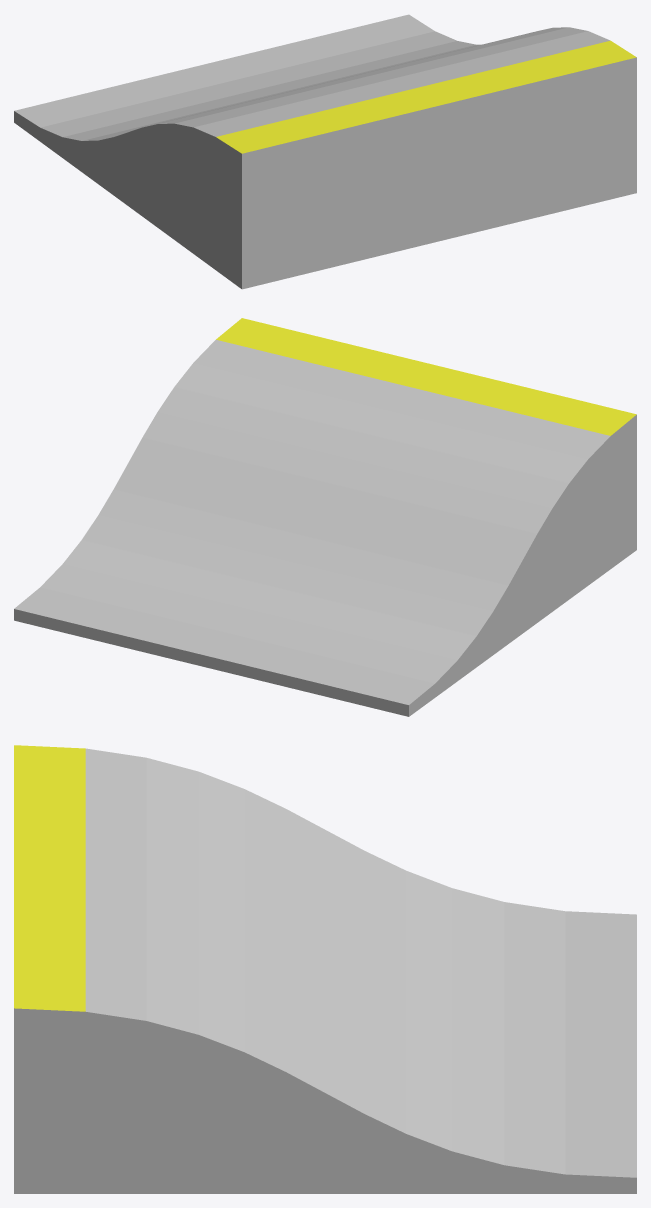
The model's file is Slope_50x50x15.fbx.
3 renders of one model, top to bottom at view 1: azimuth 30°, elevation 25°; view 2: azimuth 150°, elevation 25°; view 3: azimuth 270°, elevation 25°, orthographic. The views are drawn at different scales.
Visible parts, largest first — view 1: Slope_50x50x15; view 2: Slope_50x50x15; view 3: Slope_50x50x15.
Part boxes in pixels (box(x1,y1,x2,y2)): Slope_50x50x15: box(14, 14, 636, 289); Slope_50x50x15: box(14, 318, 636, 716); Slope_50x50x15: box(14, 745, 636, 1193).
Size of the model in its own units: 50 by 50 by 16.42.
